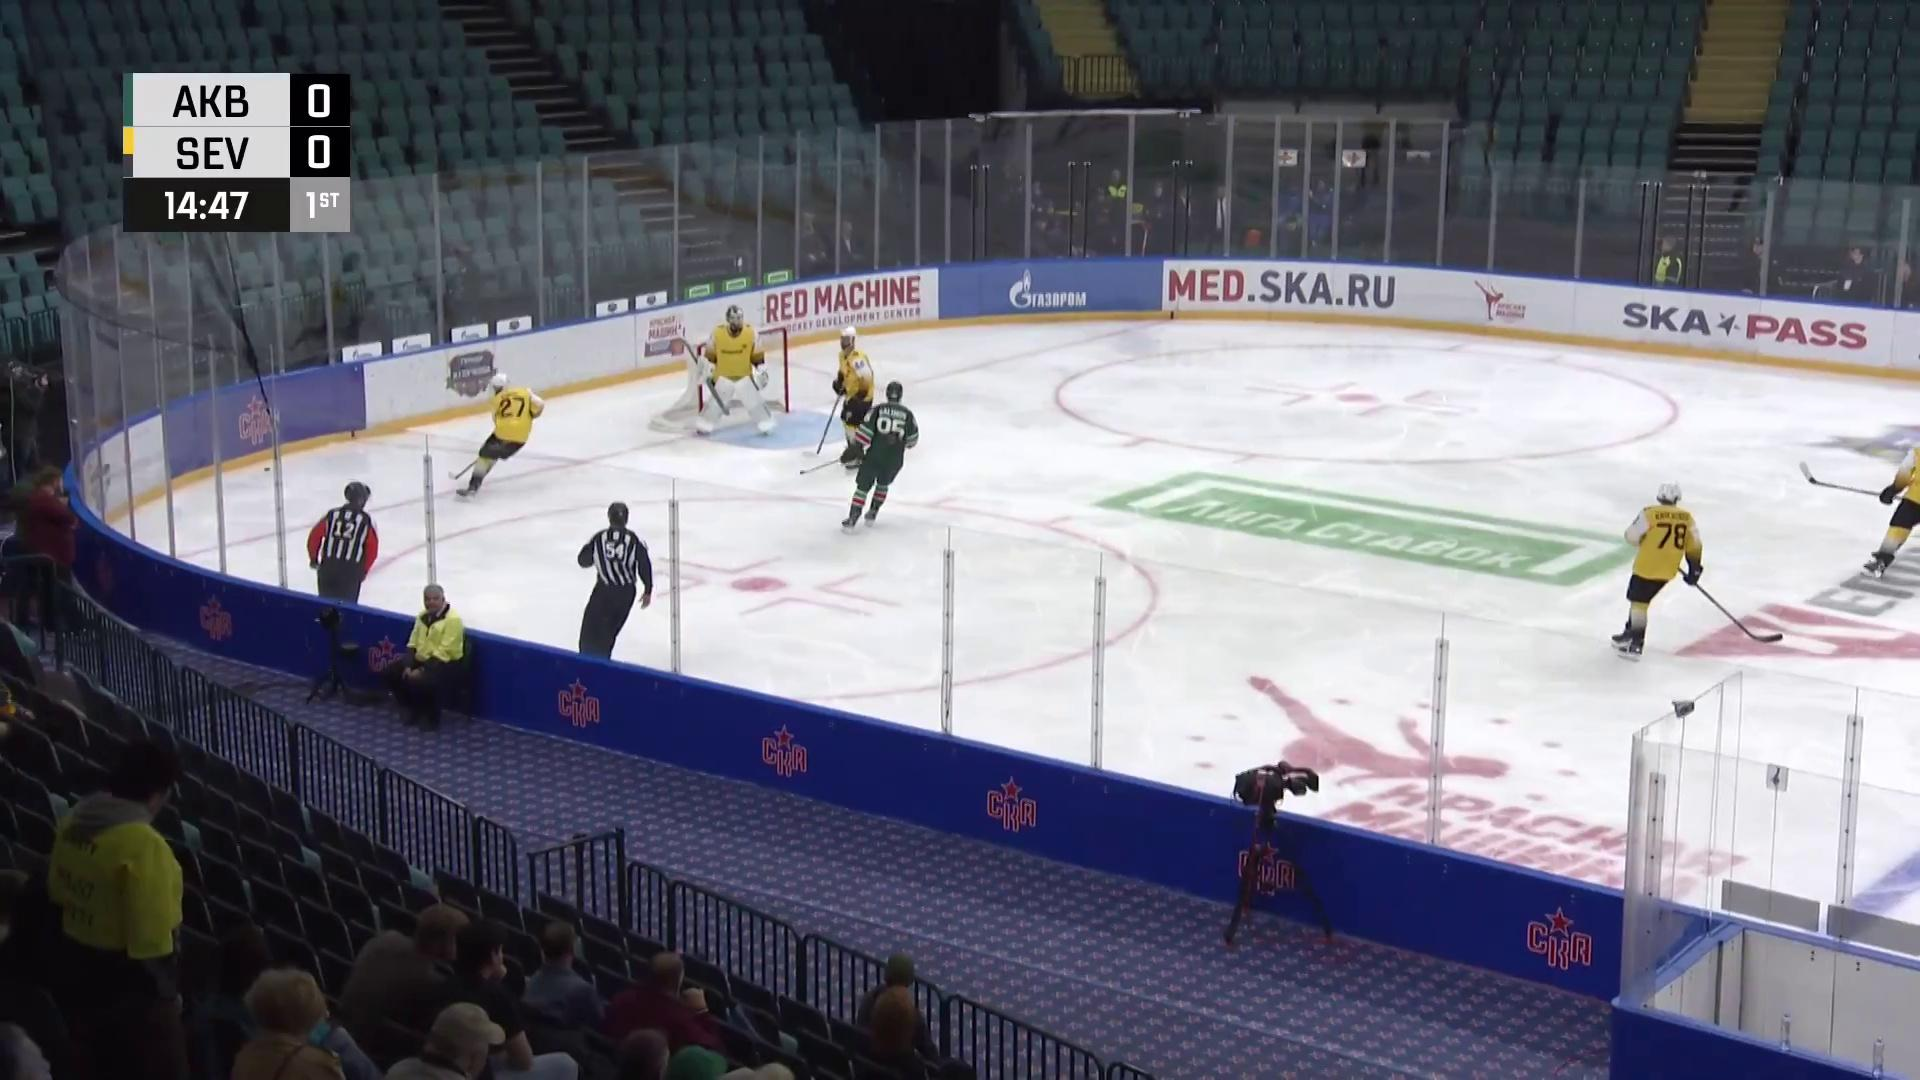ball: (264, 467, 270, 472)
